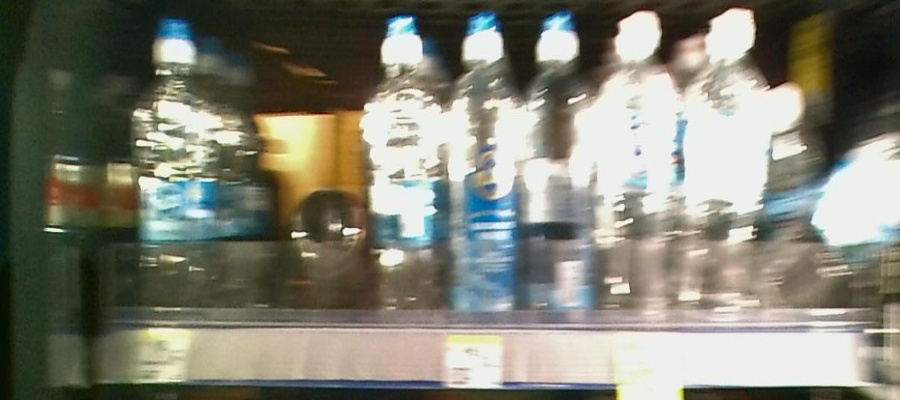bottle: (361, 15, 445, 352), (604, 14, 684, 346), (693, 12, 772, 348), (132, 13, 218, 321), (525, 14, 598, 347), (450, 15, 520, 341)
